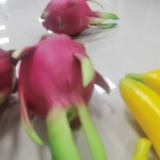pitaya: (21, 34, 107, 160), (41, 1, 120, 37)
